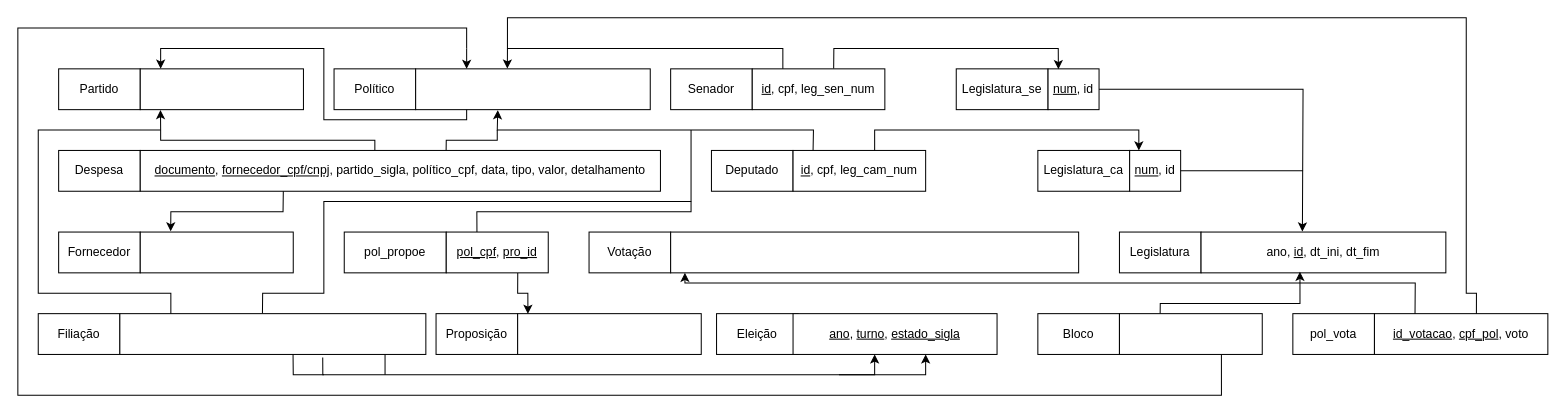
The diagram is 1566 pixels wide and 414 high, and some of its shapes have lost their labels. Each missing label, with the centre of its shape:
"cpf/cnpj , razão, atividade" belongs at point (216, 252).
"id , desc, ementa, dt_prop" belongs at point (609, 333).
"id , leg_id , partido_sigla" belongs at point (1190, 333).
"id , órgão, votos_s, votos_n, aprovação, descrição, data_dia, data_hora" belongs at point (874, 252).
"par_sigla, cpf , nome, sobrenome" belongs at point (532, 89).
"partido_sigla, político_cpf, ano, turno, estado_sigla" belongs at point (272, 333).
"sigla , nome, número, cnpj" belongs at point (221, 89).
